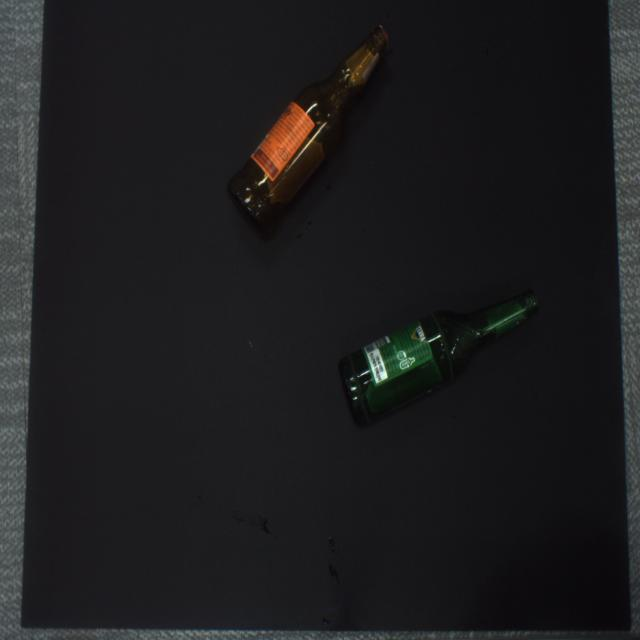beer-bottle: (227, 27, 388, 233), (339, 289, 538, 426)
